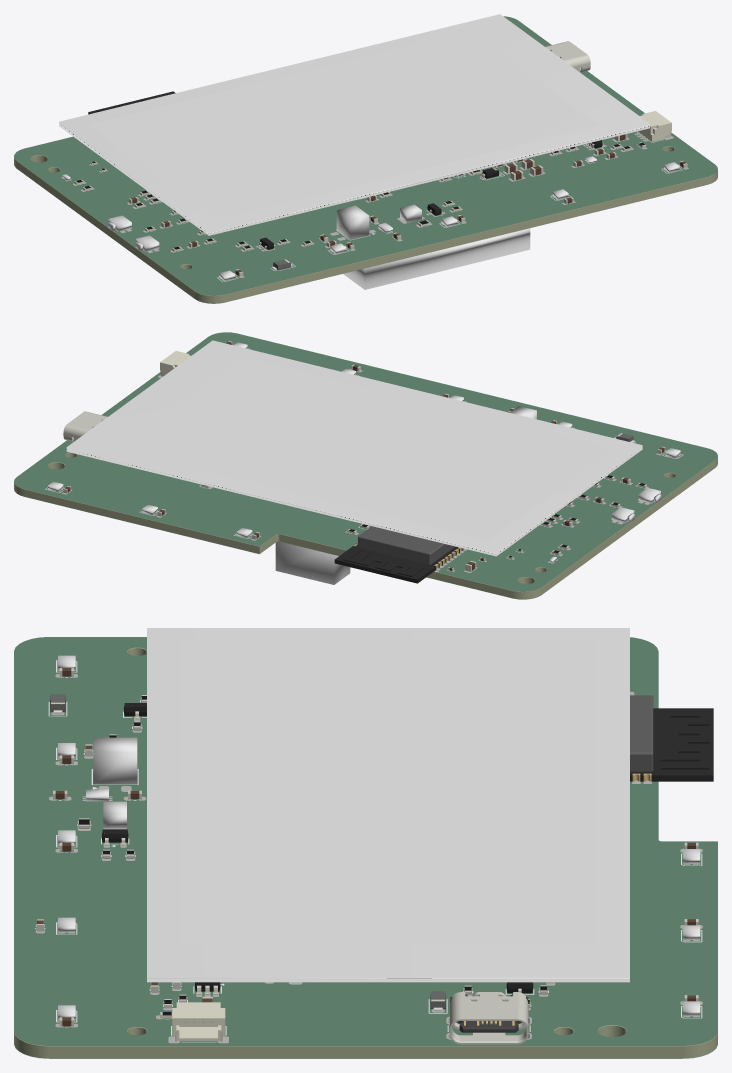
File: board.glb
The picture shows the model from 3 angles, top to bottom: view 1: azimuth 30°, elevation 25°; view 2: azimuth 150°, elevation 25°; view 3: azimuth 270°, elevation 25°; orthographic projection. The views are drawn at different scales.
Parts seen in each view (by area): view 1: =>[0:1:1:49], =>[0:1:1:73], =>[0:1:1:71], =>[0:1:1:65], =>[0:1:1:68], =>[0:1:1:39], =>[0:1:1:55], =>[0:1:1:43], =>[0:1:1:72]; view 2: =>[0:1:1:49], =>[0:1:1:73], =>[0:1:1:71], =>[0:1:1:21], =>[0:1:1:67], =>[0:1:1:55], =>[0:1:1:68], =>[0:1:1:72]; view 3: =>[0:1:1:49], =>[0:1:1:73], =>[0:1:1:71], =>[0:1:1:21], =>[0:1:1:55], =>[0:1:1:39], =>[0:1:1:43], =>[0:1:1:68], =>[0:1:1:69], =>[0:1:1:72], =>[0:1:1:23].
Boxes of the visible parts, <box> form: =>[0:1:1:49]: <box>59,14,649,235</box>; =>[0:1:1:73]: <box>14,17,717,303</box>; =>[0:1:1:71]: <box>14,16,717,295</box>; =>[0:1:1:65]: <box>343,228,530,289</box>; =>[0:1:1:68]: <box>61,133,688,281</box>; =>[0:1:1:39]: <box>336,205,369,239</box>; =>[0:1:1:55]: <box>545,41,590,72</box>; =>[0:1:1:43]: <box>636,111,671,141</box>; =>[0:1:1:72]: <box>16,168,716,303</box>; =>[0:1:1:49]: <box>66,340,642,556</box>; =>[0:1:1:73]: <box>14,333,717,599</box>; =>[0:1:1:71]: <box>14,332,717,591</box>; =>[0:1:1:21]: <box>334,526,463,583</box>; =>[0:1:1:67]: <box>275,541,350,584</box>; =>[0:1:1:55]: <box>63,411,107,441</box>; =>[0:1:1:68]: <box>47,344,680,572</box>; =>[0:1:1:72]: <box>14,465,717,599</box>; =>[0:1:1:49]: <box>147,628,629,982</box>; =>[0:1:1:73]: <box>14,638,717,1058</box>; =>[0:1:1:71]: <box>14,637,717,1045</box>; =>[0:1:1:21]: <box>630,695,713,781</box>; =>[0:1:1:55]: <box>450,992,528,1044</box>; =>[0:1:1:39]: <box>93,737,137,784</box>; =>[0:1:1:43]: <box>172,1002,225,1041</box>; =>[0:1:1:68]: <box>36,670,702,1043</box>; =>[0:1:1:69]: <box>35,660,702,1042</box>; =>[0:1:1:72]: <box>14,1044,717,1058</box>; =>[0:1:1:23]: <box>103,801,126,828</box>.
Size of the model in its own units: 0.11 by 0.0156 by 0.08.
